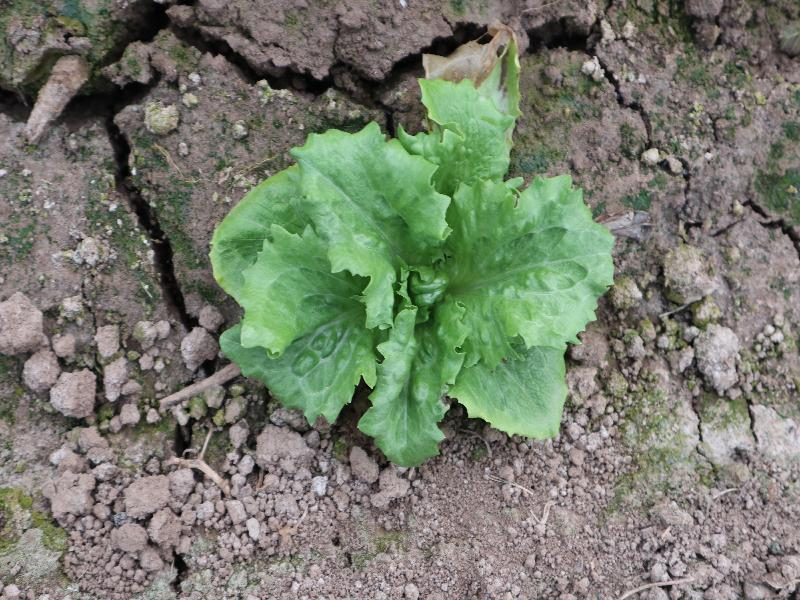lettuce: (207, 76, 616, 466)
